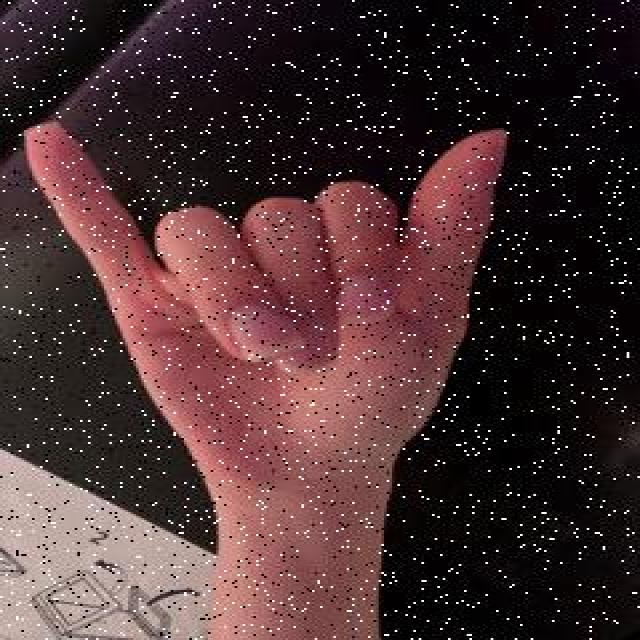Y: (15, 117, 516, 499)
